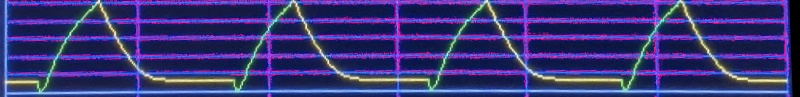leakage: (0, 0, 786, 97)
